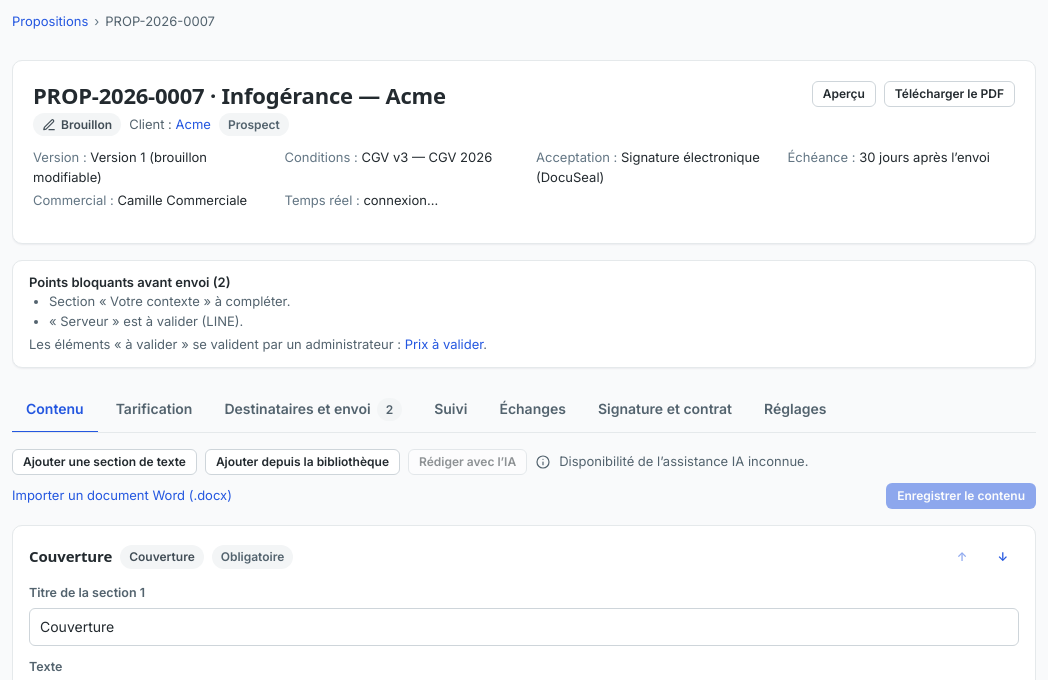
lignes, statut « à valider », totaux HT / TVA / TTC du serveur et lien « Prix à valider »
This screenshot has width=1048, height=680.
Click the tab "Tarification" at (154, 410), box x1=102 y1=388 x2=206 y2=433
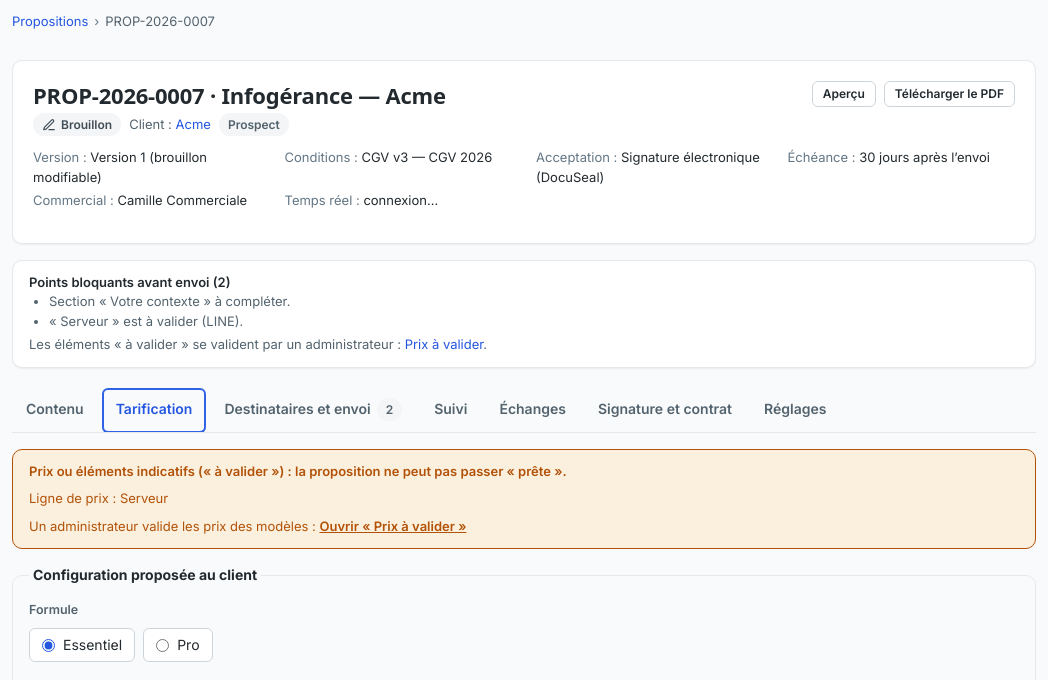
Expected: the text "Ligne de prix : Serveur" is shown, x1=29 y1=490 x2=168 y2=509
